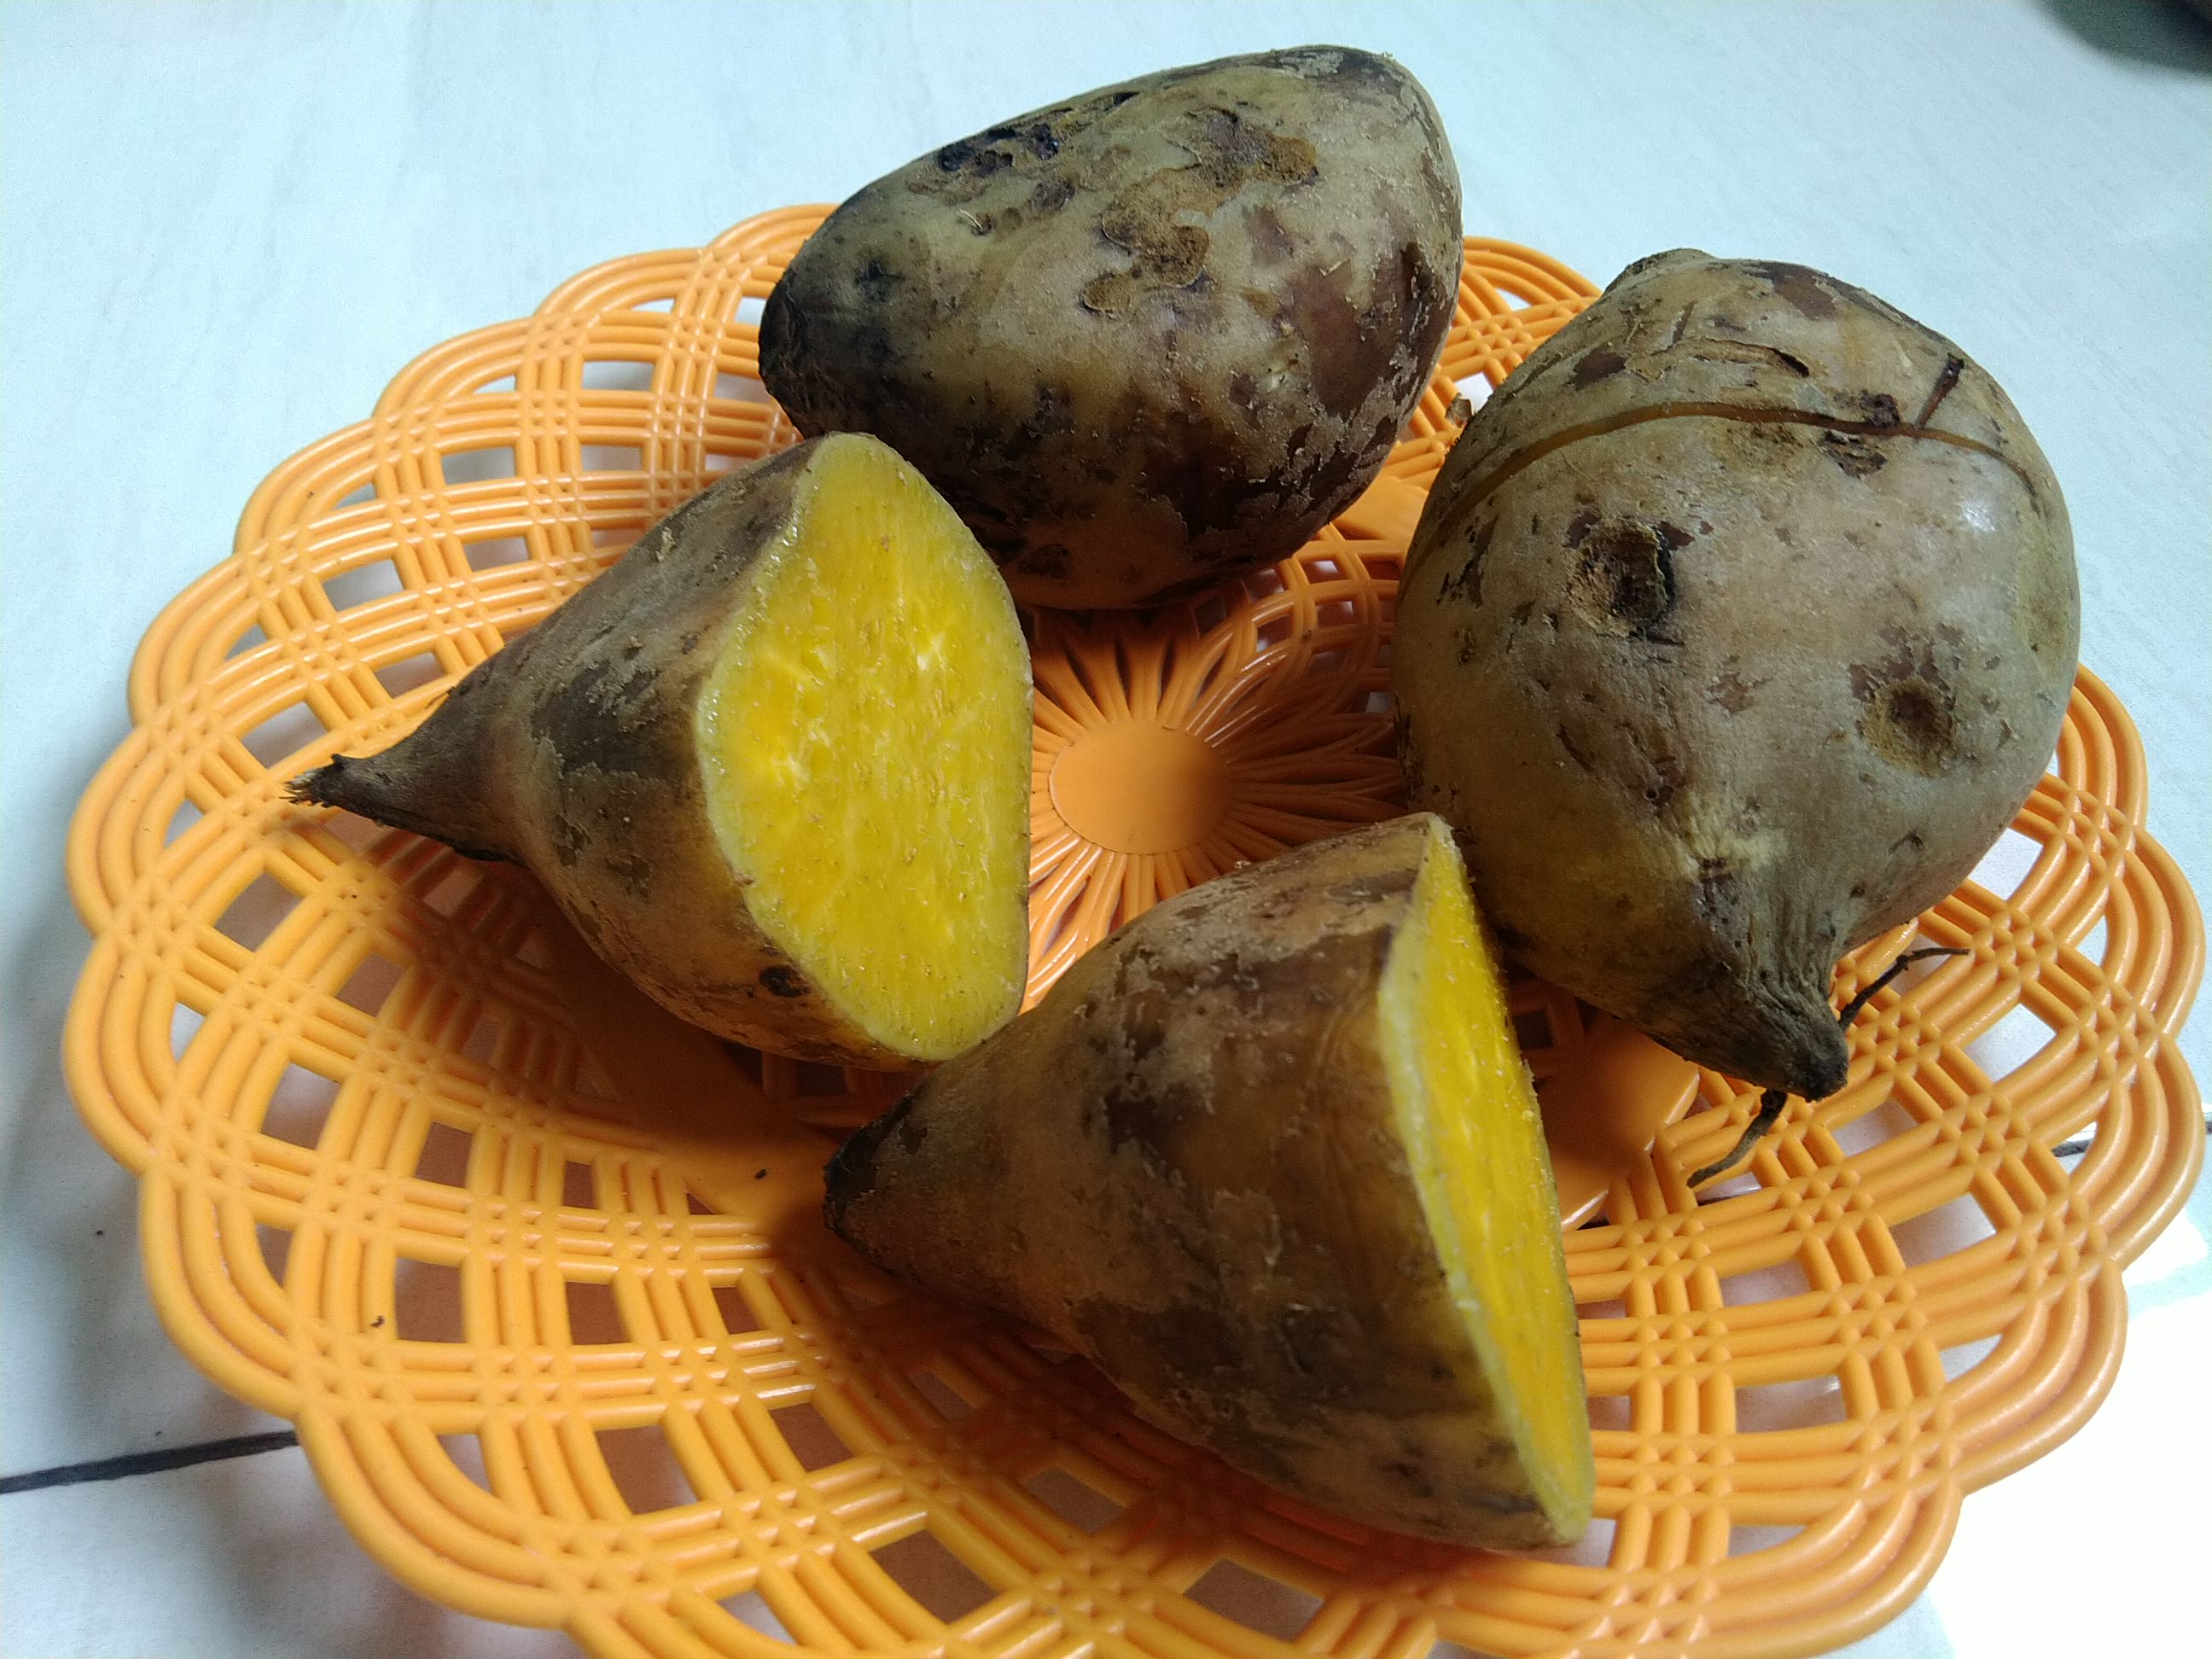ubi kuning: (799, 789, 1688, 1554), (1404, 213, 2099, 1131), (284, 420, 1054, 1079), (754, 28, 1460, 613)
